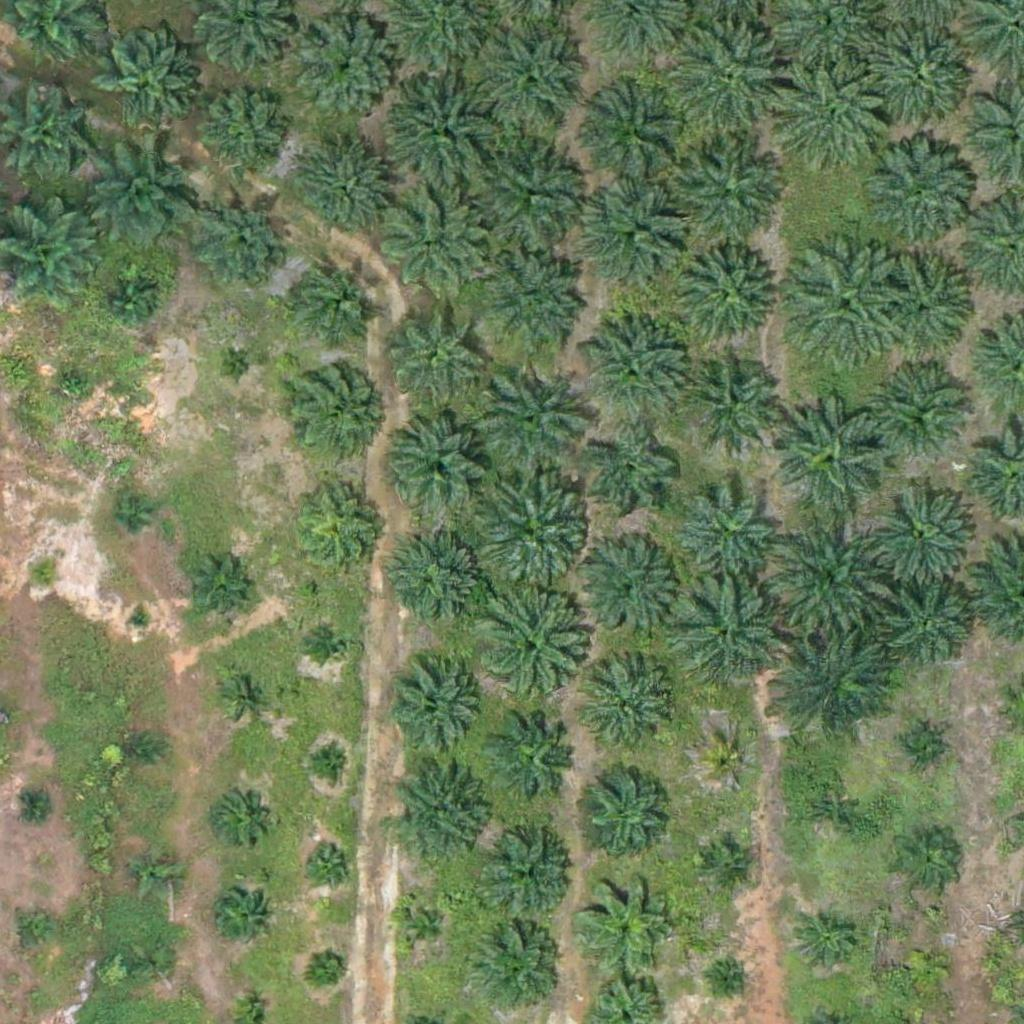Kelapa_Sawit: (378, 68, 503, 194), (469, 132, 594, 258), (665, 14, 790, 140), (773, 59, 898, 185), (856, 9, 981, 135), (852, 130, 977, 256), (781, 241, 906, 367), (766, 511, 891, 637), (774, 622, 899, 748), (467, 469, 592, 594), (467, 588, 592, 713), (89, 141, 202, 254), (474, 25, 587, 138), (674, 580, 787, 693), (579, 315, 692, 428), (476, 246, 589, 359), (473, 364, 586, 477), (866, 472, 978, 586), (776, 392, 888, 506), (581, 75, 693, 188), (670, 141, 782, 254), (378, 191, 490, 304), (97, 32, 197, 133), (298, 18, 398, 119), (294, 143, 394, 244), (872, 248, 972, 349), (678, 481, 778, 582), (582, 427, 682, 528), (577, 536, 677, 637), (380, 297, 480, 398), (391, 414, 491, 515), (388, 533, 488, 634), (385, 661, 485, 762), (283, 252, 383, 353), (285, 358, 385, 459), (290, 479, 390, 580), (575, 871, 675, 972), (393, 763, 493, 864), (875, 363, 975, 463), (675, 243, 775, 343), (684, 351, 784, 451), (587, 187, 687, 287), (588, 665, 676, 754), (884, 583, 972, 671), (473, 921, 561, 1009), (485, 829, 573, 917), (492, 716, 580, 804), (198, 197, 285, 286), (197, 90, 284, 178), (582, 761, 669, 849), (185, 560, 248, 623), (896, 831, 958, 894), (796, 910, 858, 973), (212, 887, 274, 950), (800, 780, 862, 843), (104, 274, 154, 325), (215, 790, 265, 841), (893, 722, 943, 773), (902, 941, 952, 992), (131, 847, 181, 898), (703, 839, 753, 889), (704, 739, 754, 789), (399, 901, 449, 951), (304, 837, 354, 887), (121, 732, 159, 770), (56, 367, 94, 405), (218, 348, 256, 386), (24, 557, 62, 595), (315, 626, 353, 664), (309, 743, 346, 781), (227, 676, 264, 714), (21, 787, 59, 824), (138, 945, 176, 982), (311, 947, 348, 985), (108, 496, 145, 534), (16, 913, 53, 950), (718, 967, 743, 992), (127, 606, 152, 631)
